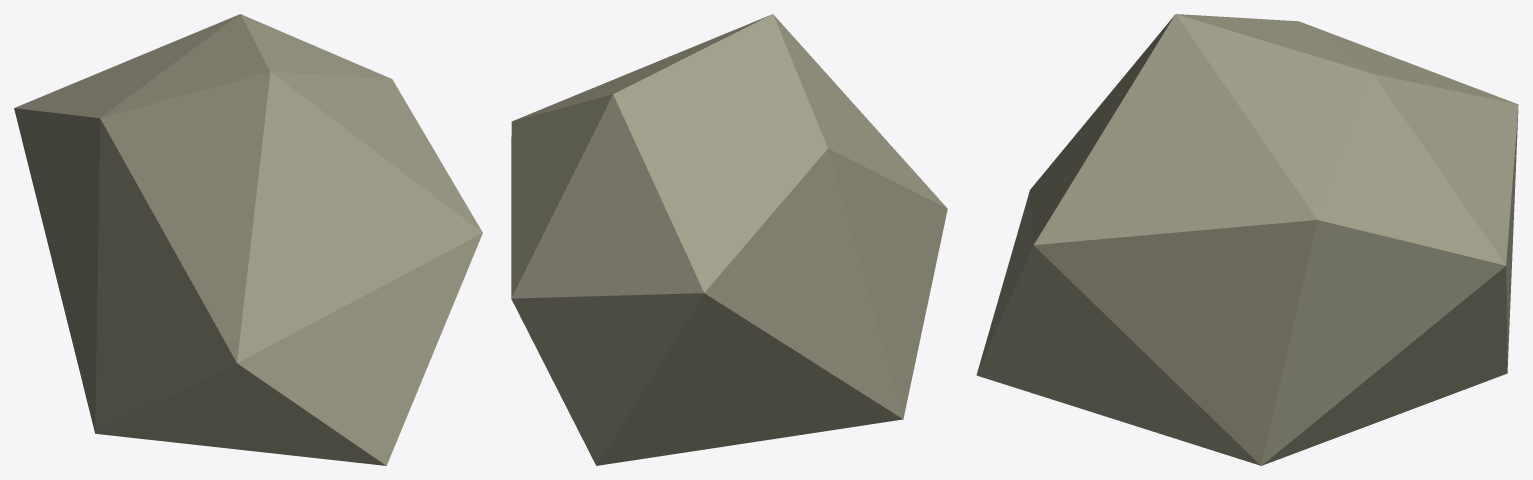
The model's file is rock.glb.
3 views of the same model, side by side, from view 1: azimuth 30°, elevation 25°; view 2: azimuth 150°, elevation 25°; view 3: azimuth 270°, elevation 25° (orthographic). The views are drawn at different scales.
Visible parts, largest first — view 1: Icosphere; view 2: Icosphere; view 3: Icosphere.
Part boxes in pixels (x1=…): Icosphere: x1=14, y1=14, x2=482, y2=465; Icosphere: x1=511, y1=14, x2=947, y2=465; Icosphere: x1=976, y1=14, x2=1518, y2=465.
Size of the model in its own units: 0.5621 by 0.5257 by 0.7125.
